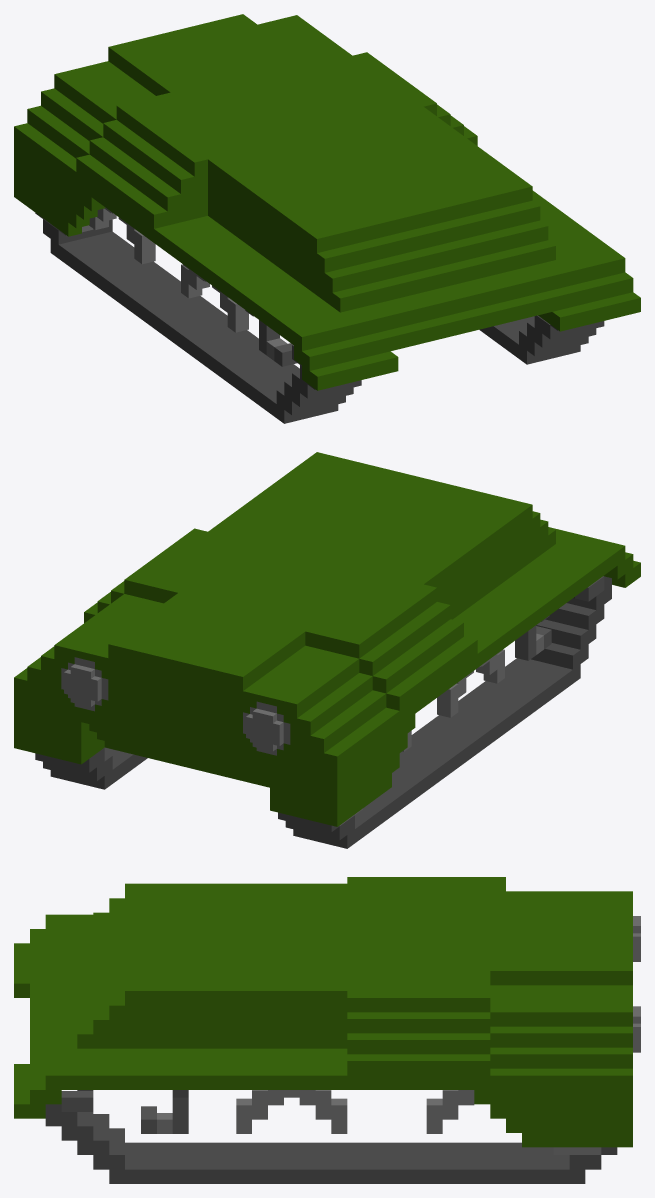
Rendered from hunter.dae.
3 renders of one model, top to bottom at view 1: azimuth 30°, elevation 25°; view 2: azimuth 150°, elevation 25°; view 3: azimuth 270°, elevation 25°, orthographic.
Parts seen in each view (by area): view 1: hanter2ww.001; view 2: hanter2ww.001; view 3: hanter2ww.001.
Boxes of the visible parts, x1,y1,x2,y2 form: hanter2ww.001: (14,14,640,423); hanter2ww.001: (14,452,640,848); hanter2ww.001: (14,877,640,1183).
Bounding box in the file's own units: 4.8 × 7.9 × 2.4.
Materials: 1 (1 with a texture image).
